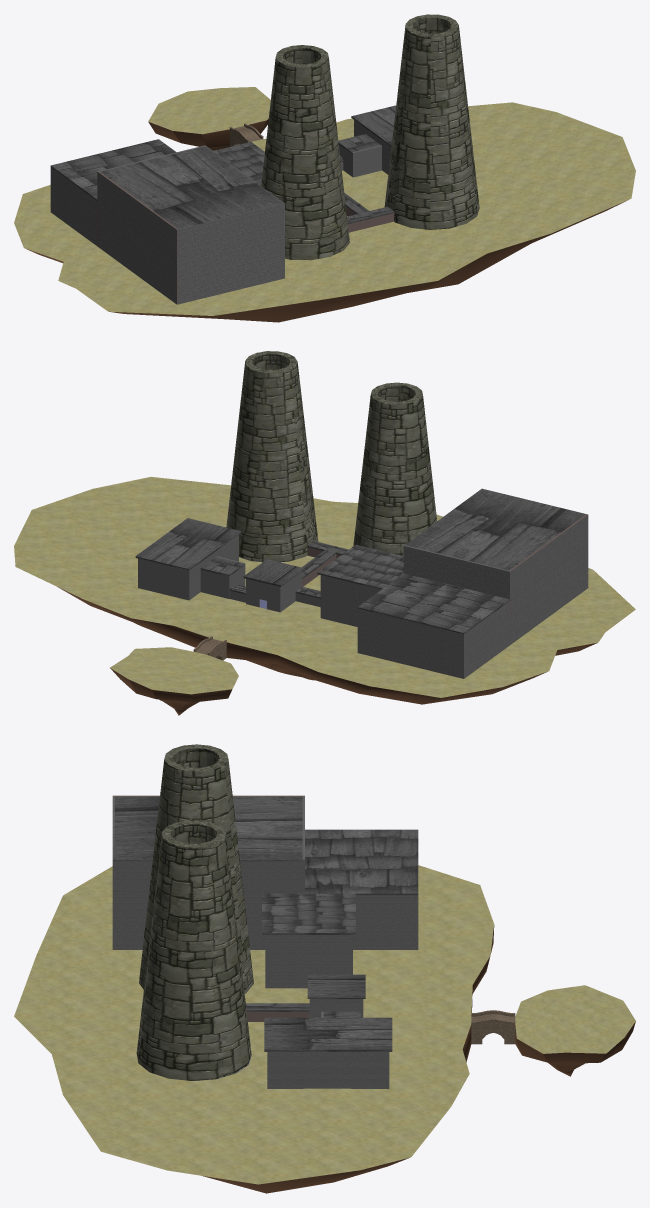
Rendered from factoryPast.fbx.
3 renders of one model, top to bottom at view 1: azimuth 30°, elevation 25°; view 2: azimuth 150°, elevation 25°; view 3: azimuth 270°, elevation 25°, orthographic. The views are drawn at different scales.
Parts seen in each view (by area): view 1: mainIsland, pCylinder5, pCylinder4, pCube39, pCube41, pCube40, spawnIsland, pCube34, pCube26, pCube15, Bridge:Bridge, corridor4 (+2 smaller); view 2: mainIsland, pCylinder5, pCylinder4, pCube41, pCube39, pCube34, spawnIsland, pCube38, pCube42, pCube26, pCube33, pCube22 (+7 smaller); view 3: mainIsland, pCylinder5, pCube34, pCube36, pCylinder4, spawnIsland, pCube41, pCube25, pCube26, pCube31, pCube10, Bridge:Bridge (+2 smaller).
Part boxes in pixels (x1=…): mainIsland: x1=14, y1=102, x2=635, y2=322; pCylinder5: x1=384, y1=14, x2=479, y2=229; pCylinder4: x1=261, y1=45, x2=349, y2=260; pCube39: x1=51, y1=168, x2=178, y2=304; pCube41: x1=100, y1=146, x2=284, y2=229; pCube40: x1=176, y1=204, x2=283, y2=303; spawnIsland: x1=148, y1=87, x2=270, y2=150; pCube34: x1=50, y1=139, x2=264, y2=201; pCube26: x1=351, y1=105, x2=396, y2=146; pCube15: x1=352, y1=145, x2=381, y2=177; Bridge:Bridge: x1=229, y1=123, x2=263, y2=146; corridor4: x1=358, y1=206, x2=394, y2=228; mainIsland: x1=14, y1=477, x2=635, y2=704; pCylinder5: x1=226, y1=351, x2=318, y2=562; pCylinder4: x1=353, y1=382, x2=436, y2=556; pCube41: x1=405, y1=488, x2=586, y2=570; pCube39: x1=465, y1=514, x2=588, y2=677; pCube34: x1=317, y1=544, x2=510, y2=634; spawnIsland: x1=110, y1=647, x2=238, y2=715; pCube38: x1=357, y1=609, x2=464, y2=678; pCube42: x1=403, y1=545, x2=510, y2=599; pCube26: x1=135, y1=518, x2=241, y2=570; pCube33: x1=322, y1=575, x2=380, y2=626; pCube22: x1=139, y1=559, x2=189, y2=600; mainIsland: x1=14, y1=865, x2=494, y2=1193; pCylinder5: x1=136, y1=820, x2=251, y2=1080; pCube34: x1=262, y1=829, x2=418, y2=934; pCube36: x1=112, y1=859, x2=415, y2=949; pCylinder4: x1=139, y1=744, x2=253, y2=993; spawnIsland: x1=515, y1=985, x2=635, y2=1076; pCube41: x1=112, y1=796, x2=302, y2=861; pCube25: x1=267, y1=1052, x2=389, y2=1088; pCube26: x1=264, y1=1017, x2=392, y2=1051; pCube31: x1=265, y1=935, x2=352, y2=988; pCube10: x1=307, y1=974, x2=365, y2=998; Bridge:Bridge: x1=471, y1=1010, x2=515, y2=1044.
Bounding box in the file's own units: 1244 × 573 × 971.
9 materials, 5 textured.
